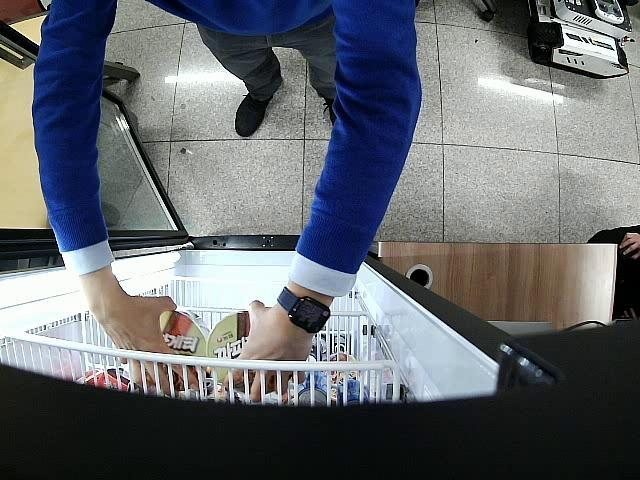03_chapagetti_L: (123, 311, 211, 391), (207, 310, 273, 393)
